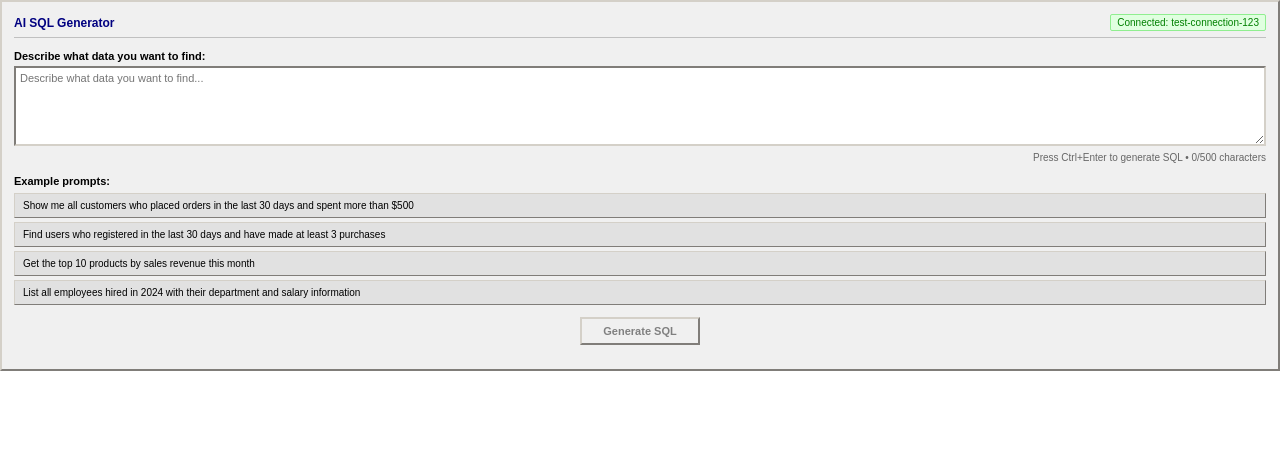
Test: AIQueryGenerator › SQL Generation Process (Zeus Directive) › handles successful SQL generation
The image size is (1280, 452).
Type "Show me recent users" into the text box labelled "Describe what data you want to find:" at (640, 106), box [14,66,1266,146]
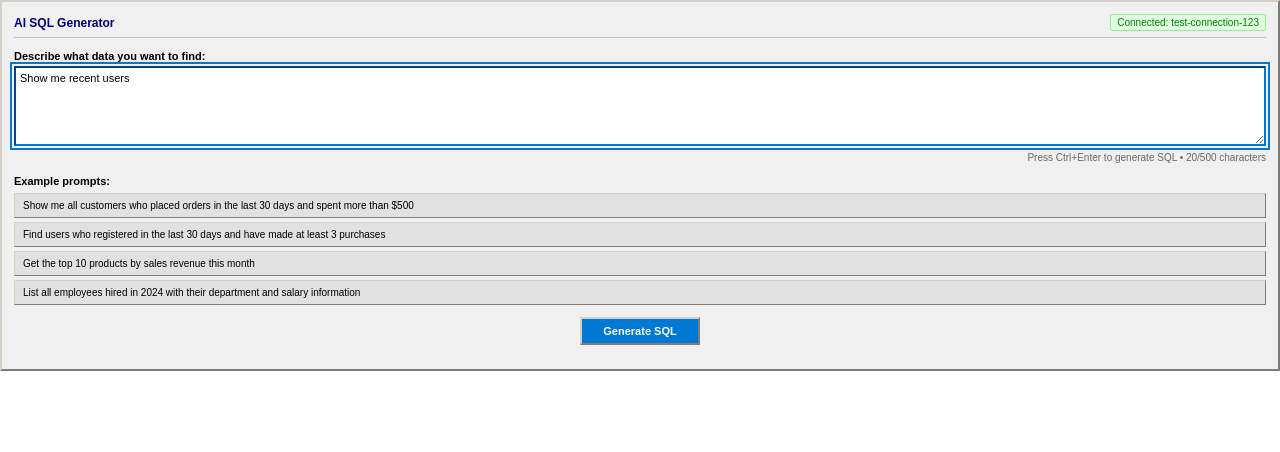
Click the button "Generate SQL" at (640, 331), box [580,317,700,345]
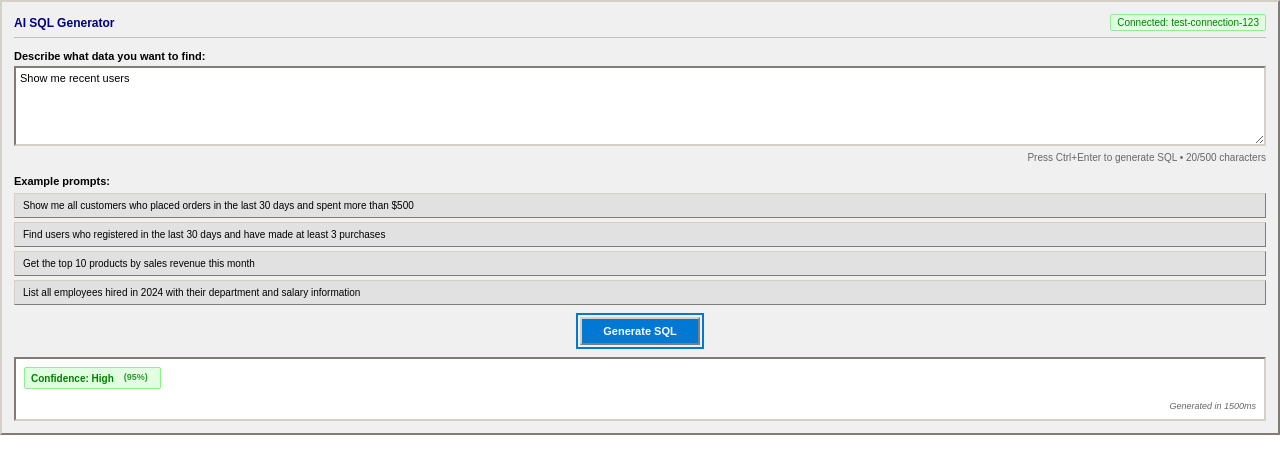
Check: the text "Confidence: High" is shown, box [24,367,161,389]
Check: the text "(95%)" is shown, box [118,370,154,384]
Check: the text "Generated in 1500ms" is shown, box [1169,401,1256,411]
